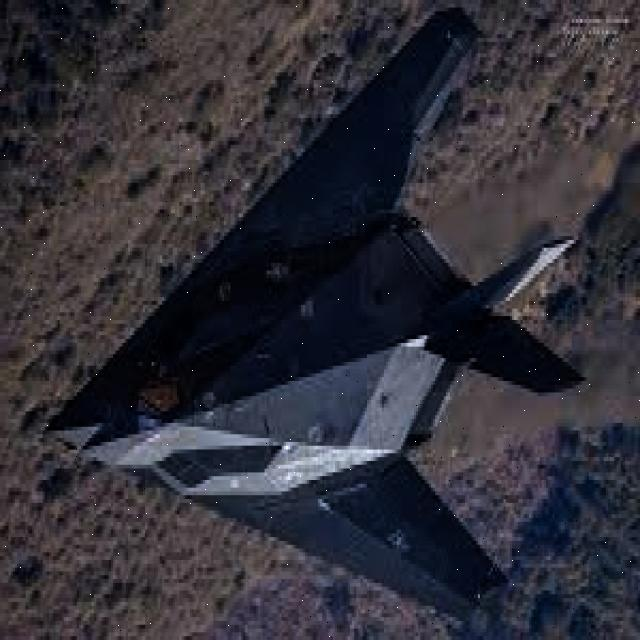F117: (11, 0, 606, 640)
